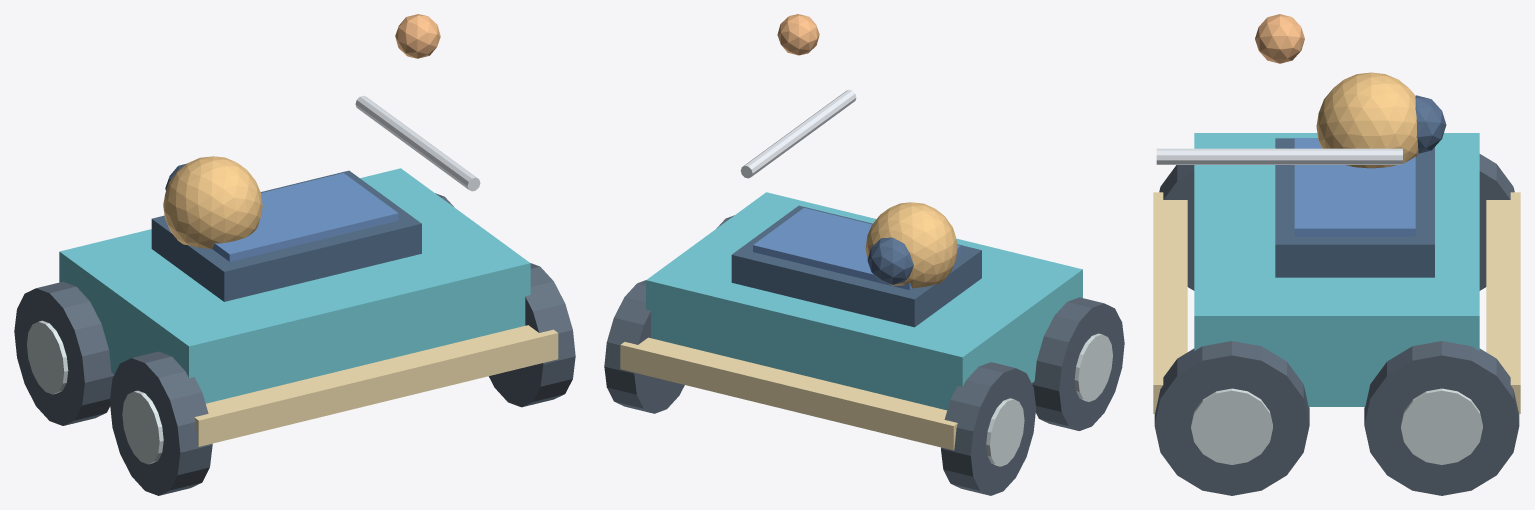
File: mini-rover.glb
3 renders of one model, left to right at view 1: azimuth 30°, elevation 25°; view 2: azimuth 150°, elevation 25°; view 3: azimuth 270°, elevation 25°, orthographic. The views are drawn at different scales.
Visible parts, largest first — view 1: Main chassis, Protective bumper rear, Top instrument deck, Wheel -1 1, Wheel -1 -1, Top blue photovoltaic panel, Camera pod, Wheel 1 1, Wheel hub -1 1, Wheel hub -1 -1, Antenna mast, Antenna cap; view 2: Main chassis, Protective bumper front, Top instrument deck, Wheel -1 -1, Wheel -1 1, Top blue photovoltaic panel, Camera pod, Wheel 1 -1, Wheel hub -1 1, Wheel hub -1 -1, Antenna mast, Front camera lens (+1 smaller); view 3: Main chassis, Wheel 1 -1, Wheel 1 1, Top instrument deck, Top blue photovoltaic panel, Camera pod, Protective bumper front, Protective bumper rear, Wheel hub 1 -1, Wheel hub 1 1, Antenna mast, Antenna cap (+3 smaller).
Part boxes in pixels (left/top/right/bottom): Main chassis: left=59, top=168, right=530, bottom=403; Protective bumper rear: left=194, top=325, right=558, bottom=446; Top instrument deck: left=151, top=170, right=421, bottom=301; Wheel -1 1: left=109, top=351, right=212, bottom=495; Wheel -1 -1: left=14, top=281, right=114, bottom=425; Top blue photovoltaic panel: left=212, top=173, right=398, bottom=261; Camera pod: left=163, top=156, right=262, bottom=248; Wheel 1 1: left=489, top=263, right=575, bottom=407; Wheel hub -1 1: left=122, top=390, right=163, bottom=464; Wheel hub -1 -1: left=27, top=320, right=68, bottom=394; Antenna mast: left=355, top=95, right=480, bottom=191; Antenna cap: left=395, top=14, right=440, bottom=58; Main chassis: left=646, top=192, right=1082, bottom=410; Protective bumper front: left=620, top=337, right=957, bottom=450; Top instrument deck: left=731, top=205, right=981, bottom=327; Wheel -1 -1: left=941, top=362, right=1035, bottom=495; Wheel -1 1: left=1032, top=297, right=1124, bottom=430; Top blue photovoltaic panel: left=753, top=208, right=960, bottom=290; Camera pod: left=865, top=202, right=957, bottom=288; Wheel 1 -1: left=604, top=280, right=684, bottom=413; Wheel hub -1 1: left=1074, top=333, right=1112, bottom=401; Wheel hub -1 -1: left=986, top=398, right=1024, bottom=466; Antenna mast: left=740, top=89, right=856, bottom=178; Front camera lens: left=867, top=237, right=913, bottom=284; Main chassis: left=1194, top=133, right=1479, bottom=406; Wheel 1 -1: left=1364, top=341, right=1519, bottom=495; Wheel 1 1: left=1154, top=341, right=1309, bottom=495; Top instrument deck: left=1275, top=138, right=1434, bottom=277; Top blue photovoltaic panel: left=1294, top=138, right=1415, bottom=236; Camera pod: left=1316, top=72, right=1418, bottom=168; Protective bumper front: left=1486, top=192, right=1520, bottom=413; Protective bumper rear: left=1153, top=192, right=1187, bottom=413; Wheel hub 1 -1: left=1401, top=388, right=1482, bottom=464; Wheel hub 1 1: left=1191, top=388, right=1272, bottom=464; Antenna mast: left=1156, top=148, right=1402, bottom=164; Antenna cap: left=1255, top=14, right=1304, bottom=63.
Size of the model in its own units: 2.24 by 2.06 by 1.61.
